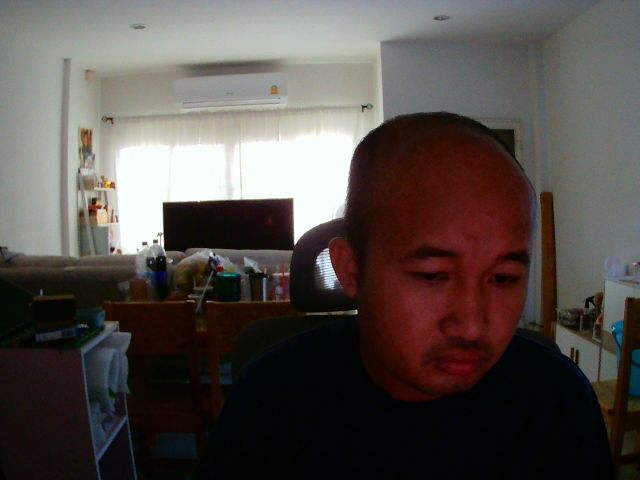face: (345, 117, 532, 391)
